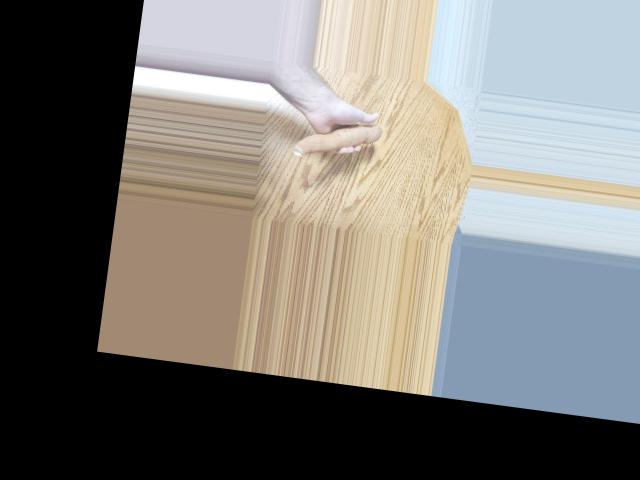sweet_potato: (289, 113, 383, 166)
